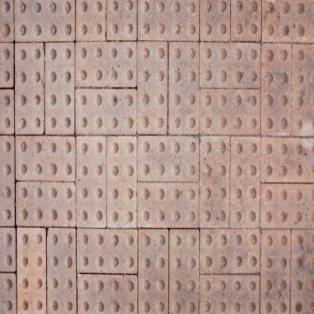Podoctatil: (2, 0, 313, 313)
